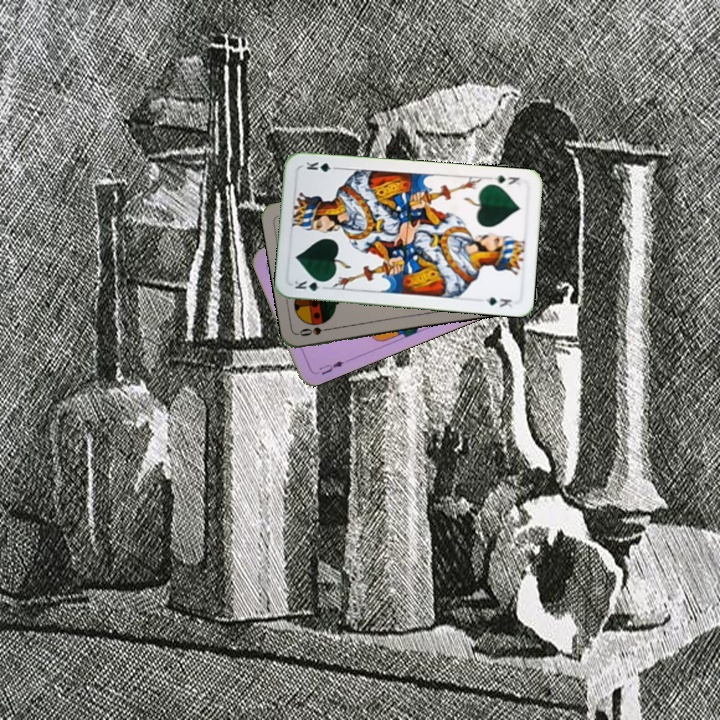EU: (311, 357, 346, 378)
GK: (290, 276, 330, 294), (489, 171, 523, 189)
SO: (295, 323, 336, 339)
